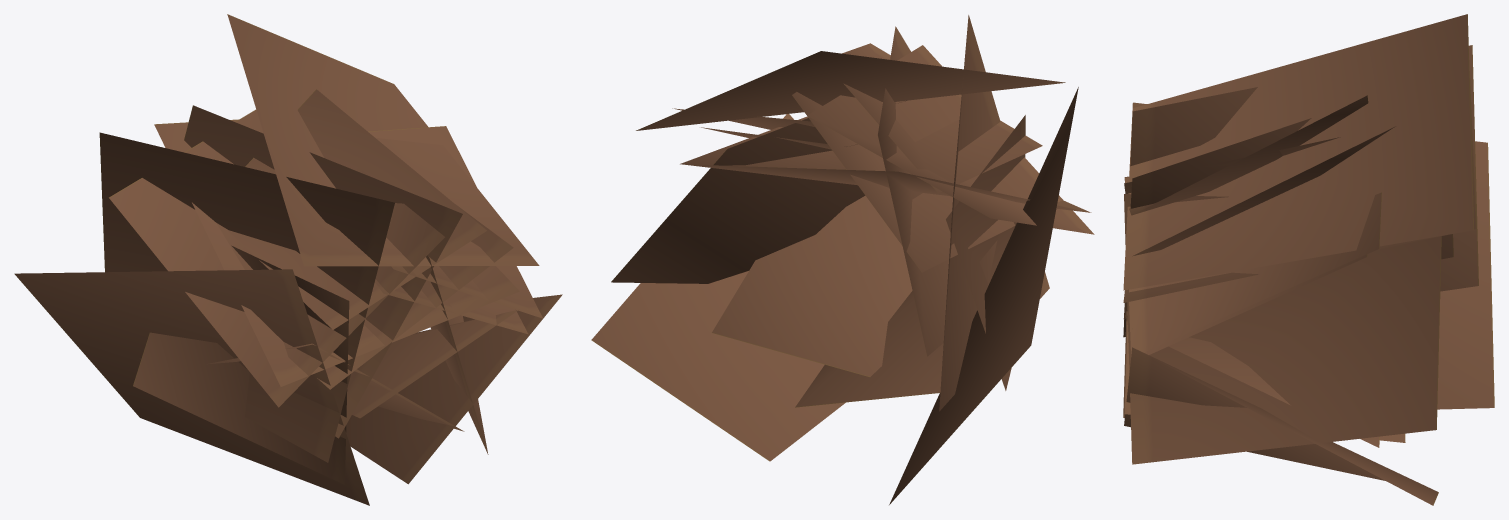
The model's file is object_34_lev2.glb.
The picture shows the model from 3 angles, left to right: view 1: azimuth 30°, elevation 25°; view 2: azimuth 150°, elevation 25°; view 3: azimuth 270°, elevation 25°; orthographic projection. The views are drawn at different scales.
Parts seen in each view (by area): view 1: object_34_lev2; view 2: object_34_lev2; view 3: object_34_lev2.
Boxes of the visible parts, x1,y1,x2,y2 form: object_34_lev2: (14,14,562,505); object_34_lev2: (591,15,1094,504); object_34_lev2: (1123,14,1494,505).
Size of the model in its own units: 2.92 by 2.61 by 1.97.
1 material, 1 textured.
